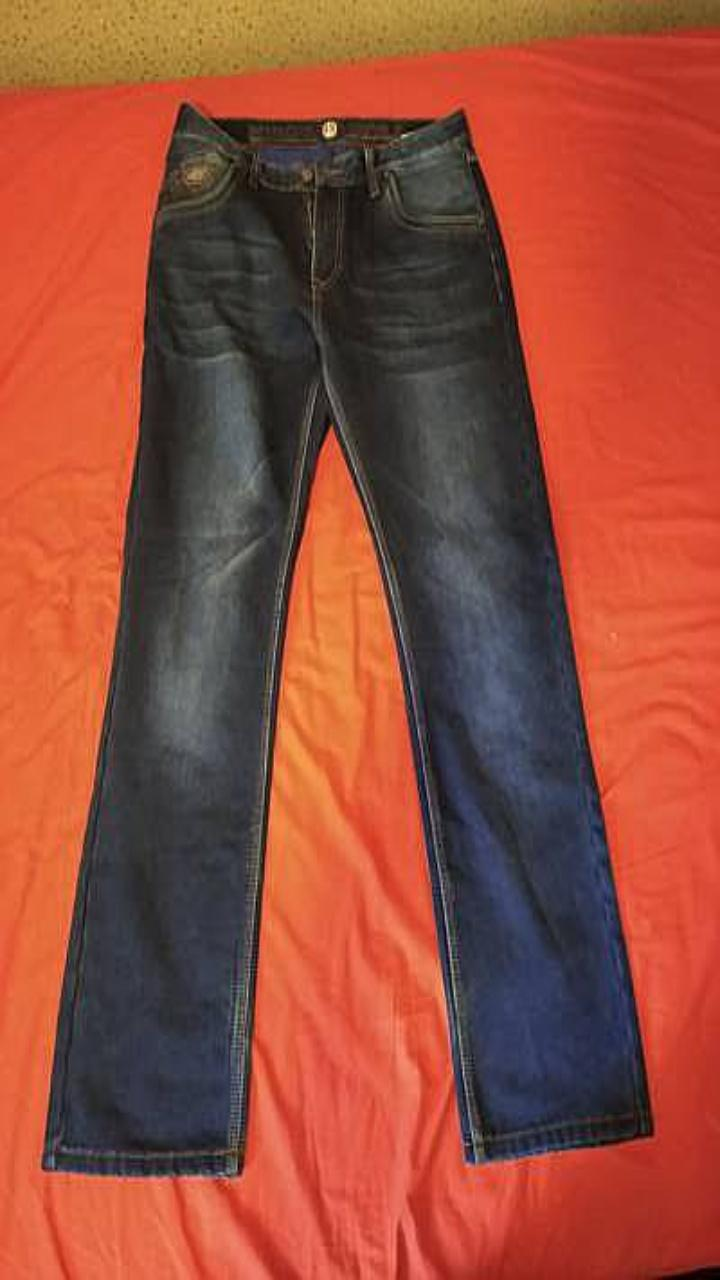Jeans: (42, 101, 652, 1175)
